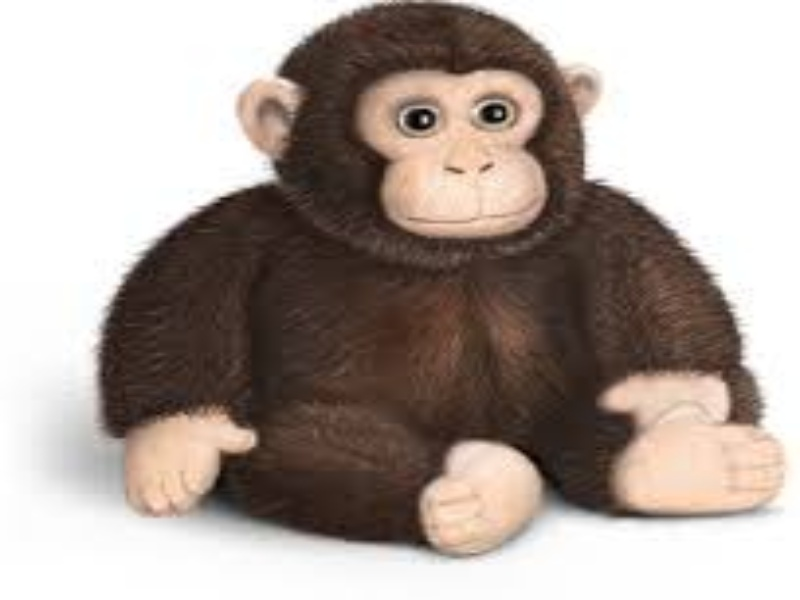monkey: (96, 3, 792, 561)
